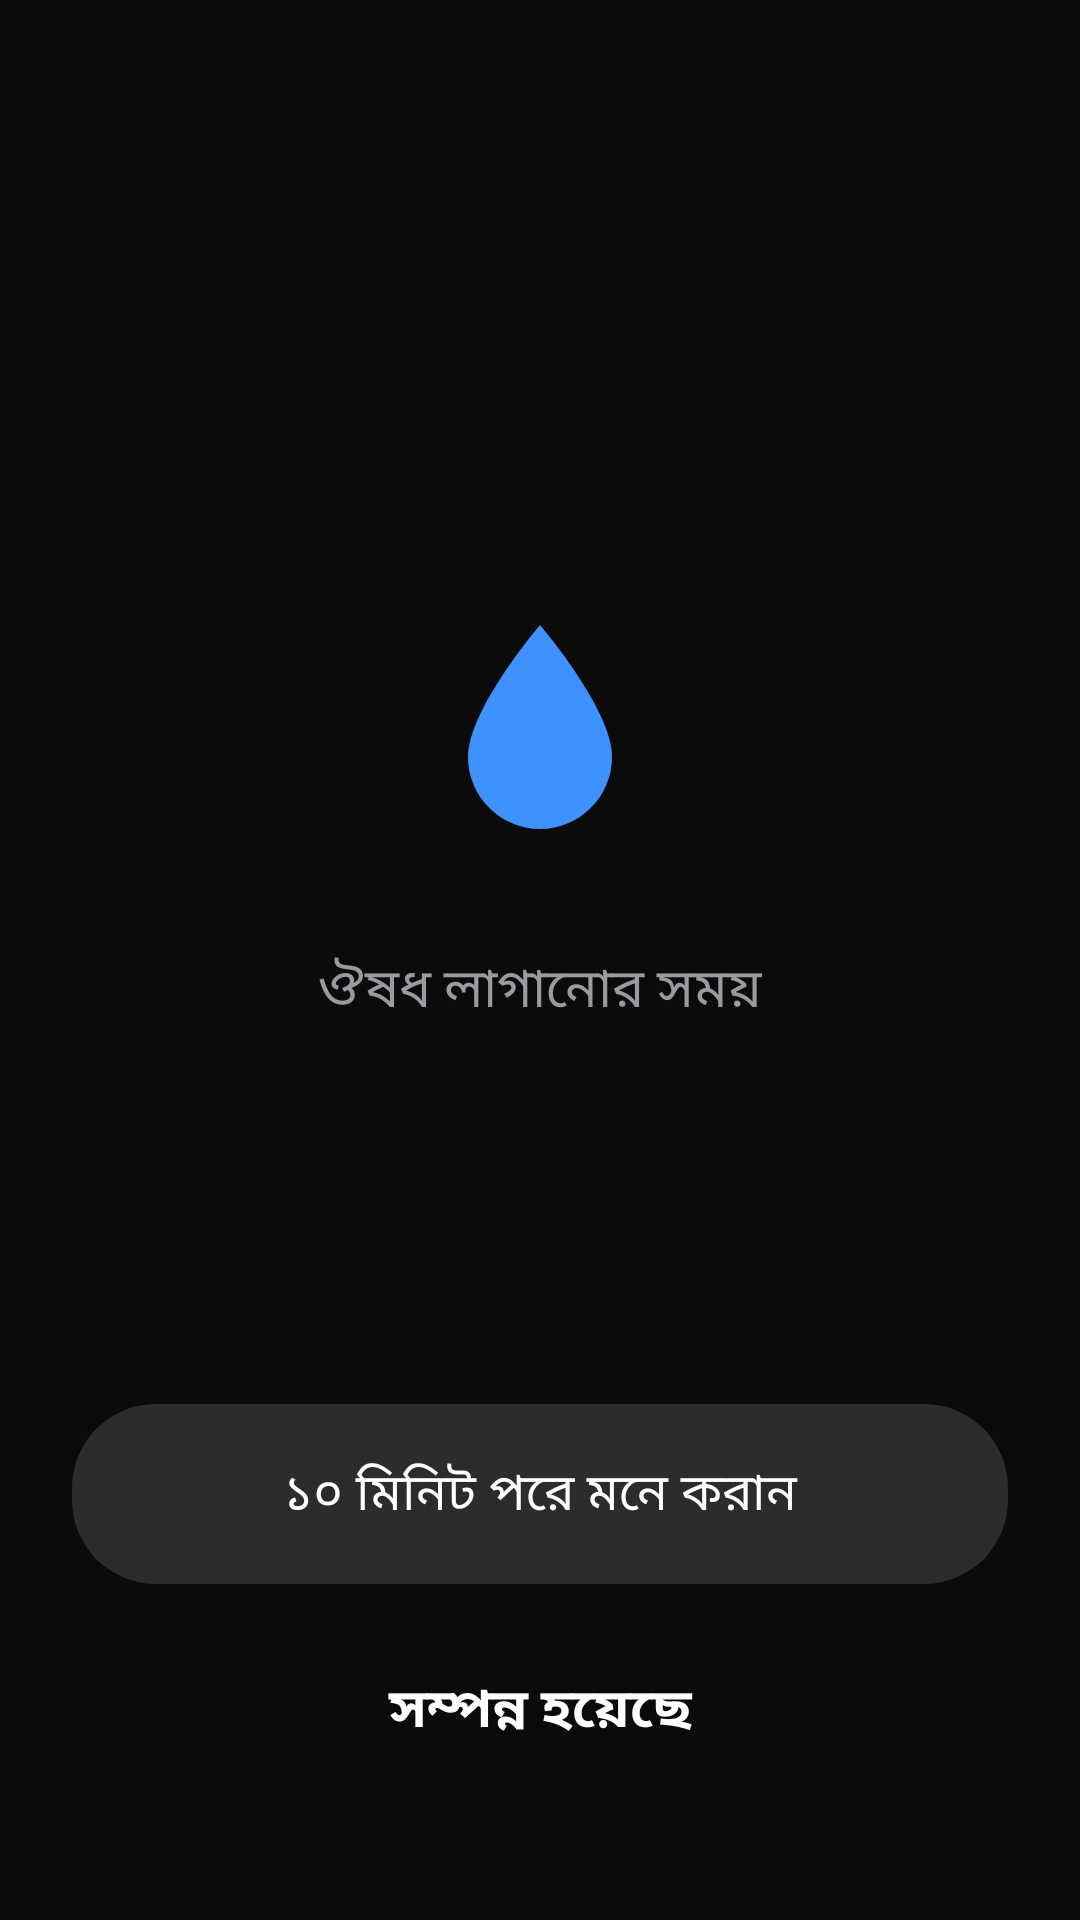

Icon click points for this 1080 x 1920 phone screenshot, format (x=x, y=y):
drop: (x=540, y=727)
